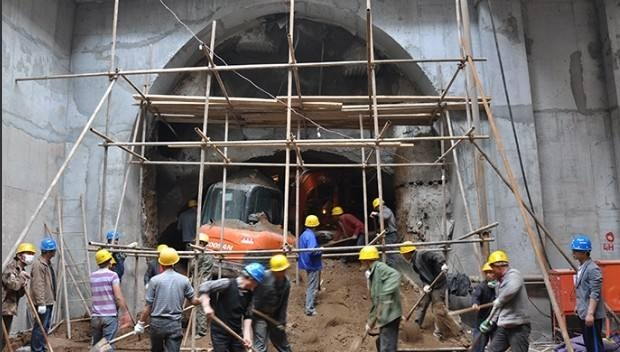blue: (569, 231, 594, 264), (38, 236, 58, 261), (106, 229, 120, 247)
yellow: (487, 248, 509, 278), (156, 246, 180, 273), (267, 251, 290, 279), (13, 240, 35, 268), (357, 243, 380, 268), (94, 248, 115, 272), (399, 240, 417, 262), (303, 212, 320, 232), (478, 260, 494, 281), (329, 205, 343, 219), (371, 195, 384, 210)
